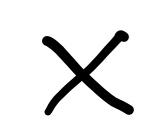mult: (44, 29, 132, 116)
